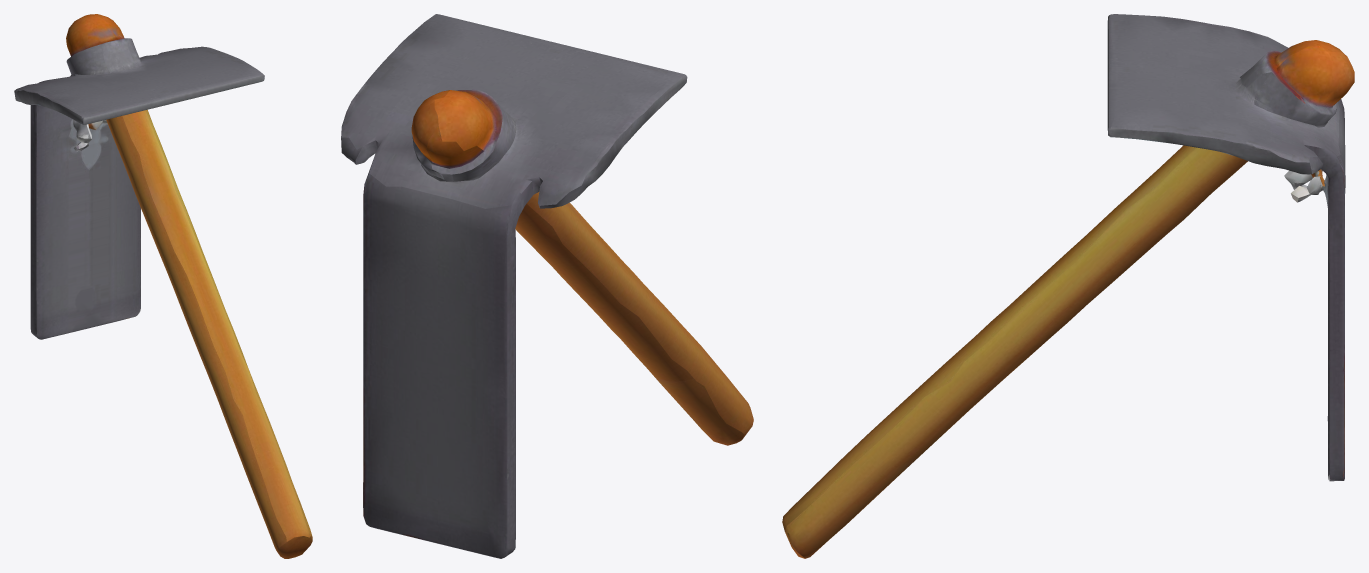
The model's file is hoe.glb.
3 views of the same model, side by side, from view 1: azimuth 30°, elevation 25°; view 2: azimuth 150°, elevation 25°; view 3: azimuth 270°, elevation 25° (orthographic). The views are drawn at different scales.
Visible parts, largest first — view 1: hoe; view 2: hoe; view 3: hoe.
Boxes of the visible parts, bbox=[...] form: hoe: bbox=[14, 14, 312, 558]; hoe: bbox=[341, 14, 753, 558]; hoe: bbox=[782, 14, 1354, 558].
Bounding box in the file's own units: 0.476 × 0.9883 × 1.
1 material, 1 textured.
